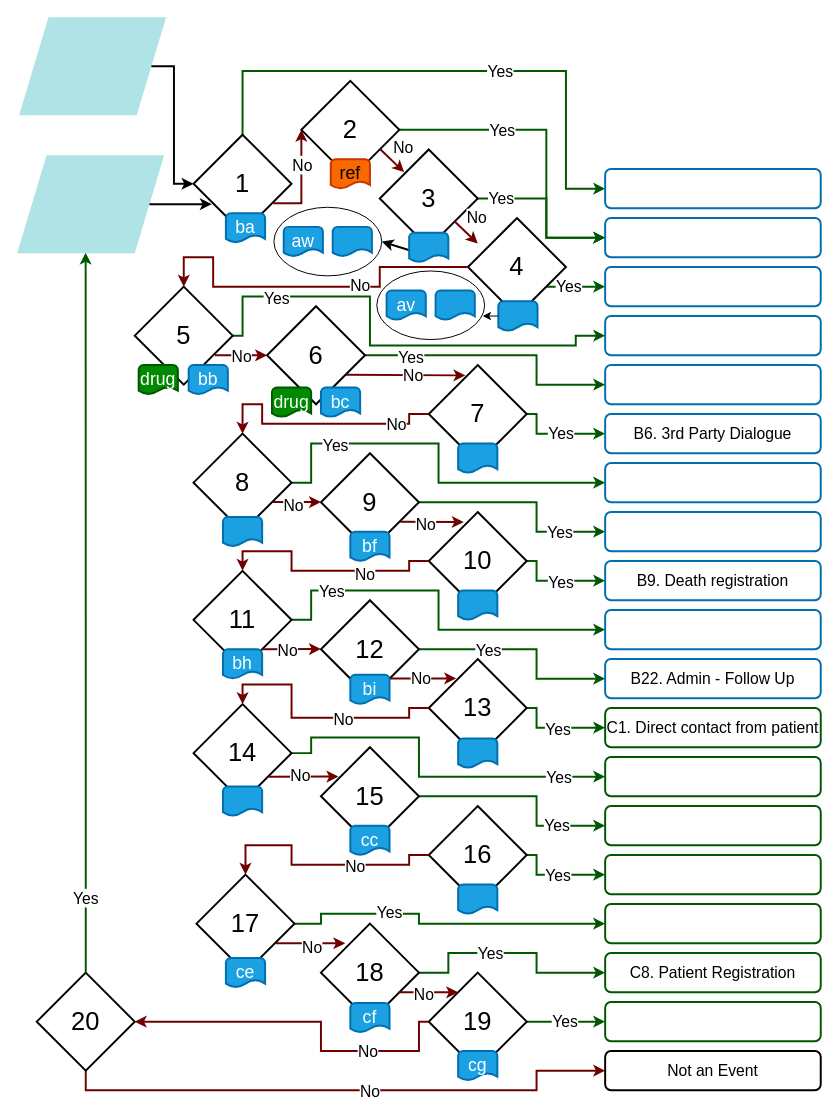
The diagram is 838 pixels wide and 1116 high, and some of its shapes have lost their labels. Here are the shapes that lost their labels. From the top down, the centre of each, then its label:
point 92,66: Unprocessed Other Event
point 90,204: Unprocessed Observations
point 712,188: B1. Immediate Redirect
point 712,237: B2. Referrals
point 712,286: B3. Order test / investigation
point 712,335: B4. New Prescription
point 712,384: B5. Repeat Prescription
point 477,457: bd
point 712,482: B7. Fit note
point 242,531: be
point 712,531: B8. Safeguarding
point 477,604: bg
point 712,629: B20. Phlebotomy
point 477,752: ca
point 712,776: C2. Proactive Patient Invitation
point 242,800: cb
point 712,825: C3. Patient Communication
point 712,874: C5. Update Notes
point 477,898: cd
point 712,923: C6. Record Access Request
point 712,1021: C99. Other Administrative Event
